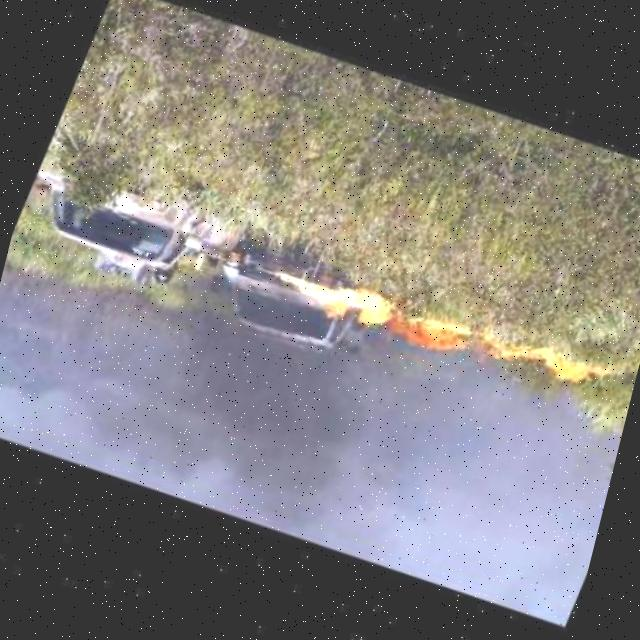fire: (241, 239, 622, 429)
